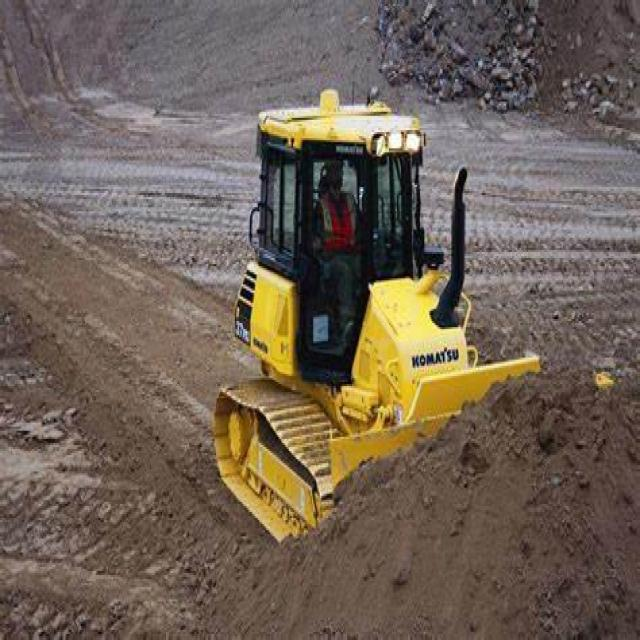bull_dozer/loader/grader: (177, 83, 593, 551)
